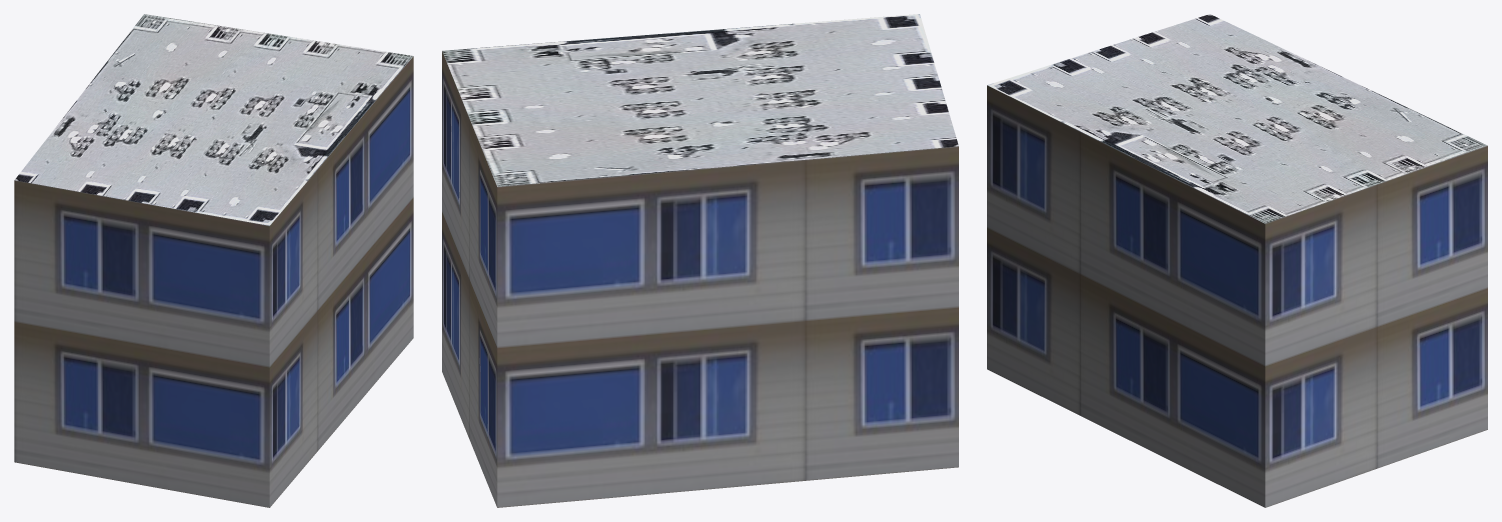
The model's file is ResTex__4777.fbx.
The picture shows the model from 3 angles, left to right: view 1: azimuth 30°, elevation 25°; view 2: azimuth 150°, elevation 25°; view 3: azimuth 270°, elevation 25°; orthographic projection. The views are drawn at different scales.
Parts seen in each view (by area): view 1: CityEngineMaterial_23_m, CityEngineMaterial_2_m; view 2: CityEngineMaterial_23_m, CityEngineMaterial_2_m; view 3: CityEngineMaterial_23_m, CityEngineMaterial_2_m.
Boxes of the visible parts, x1=… form: CityEngineMaterial_23_m: x1=14, y1=56, x2=413, y2=507; CityEngineMaterial_2_m: x1=14, y1=14, x2=413, y2=225; CityEngineMaterial_23_m: x1=442, y1=51, x2=958, y2=507; CityEngineMaterial_2_m: x1=442, y1=14, x2=958, y2=186; CityEngineMaterial_23_m: x1=987, y1=85, x2=1487, y2=507; CityEngineMaterial_2_m: x1=987, y1=14, x2=1487, y2=223.
Size of the model in its own units: 9.5 by 6 by 9.58.
2 materials, 2 textured.
